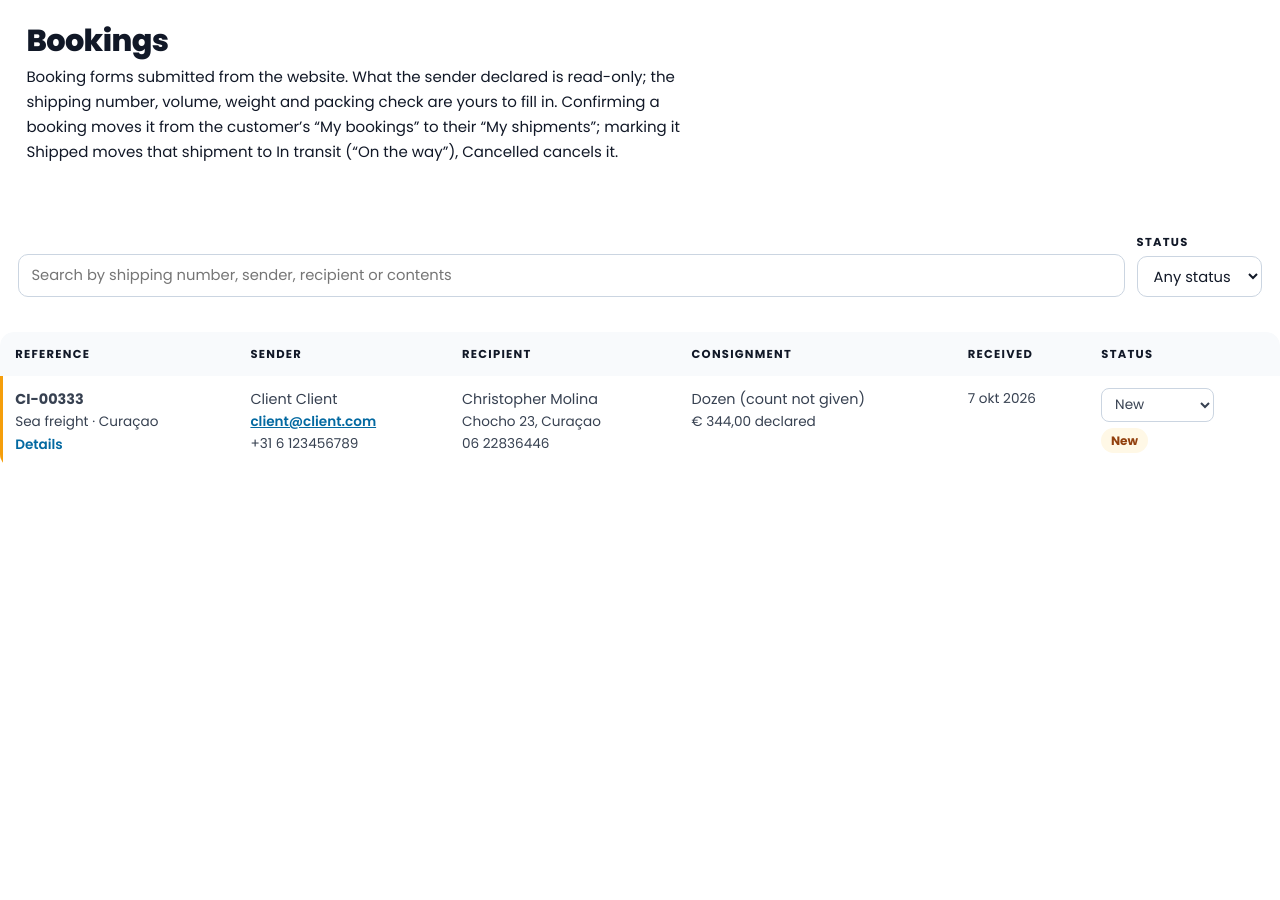
Test case: Bookings › opens a booking in a pop-up, and closes it again
This screenshot has width=1280, height=900.
Click the button "Details" at (39, 444), box [15,434,63,455]
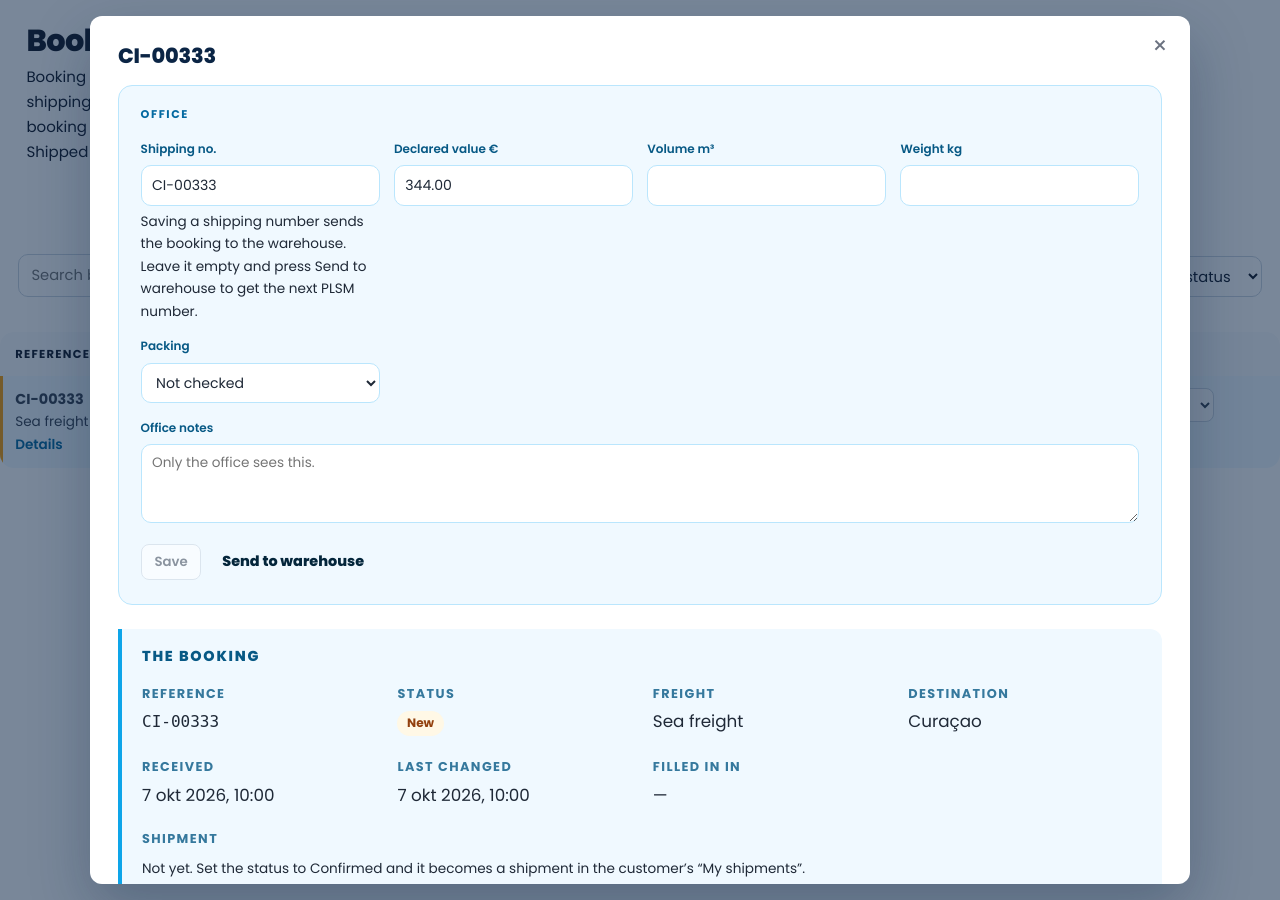
Expected: the text "Office" is shown, [141,106,189,122]
Expected: the text "Shipping no." is shown, [141,140,216,157]
Press Escape
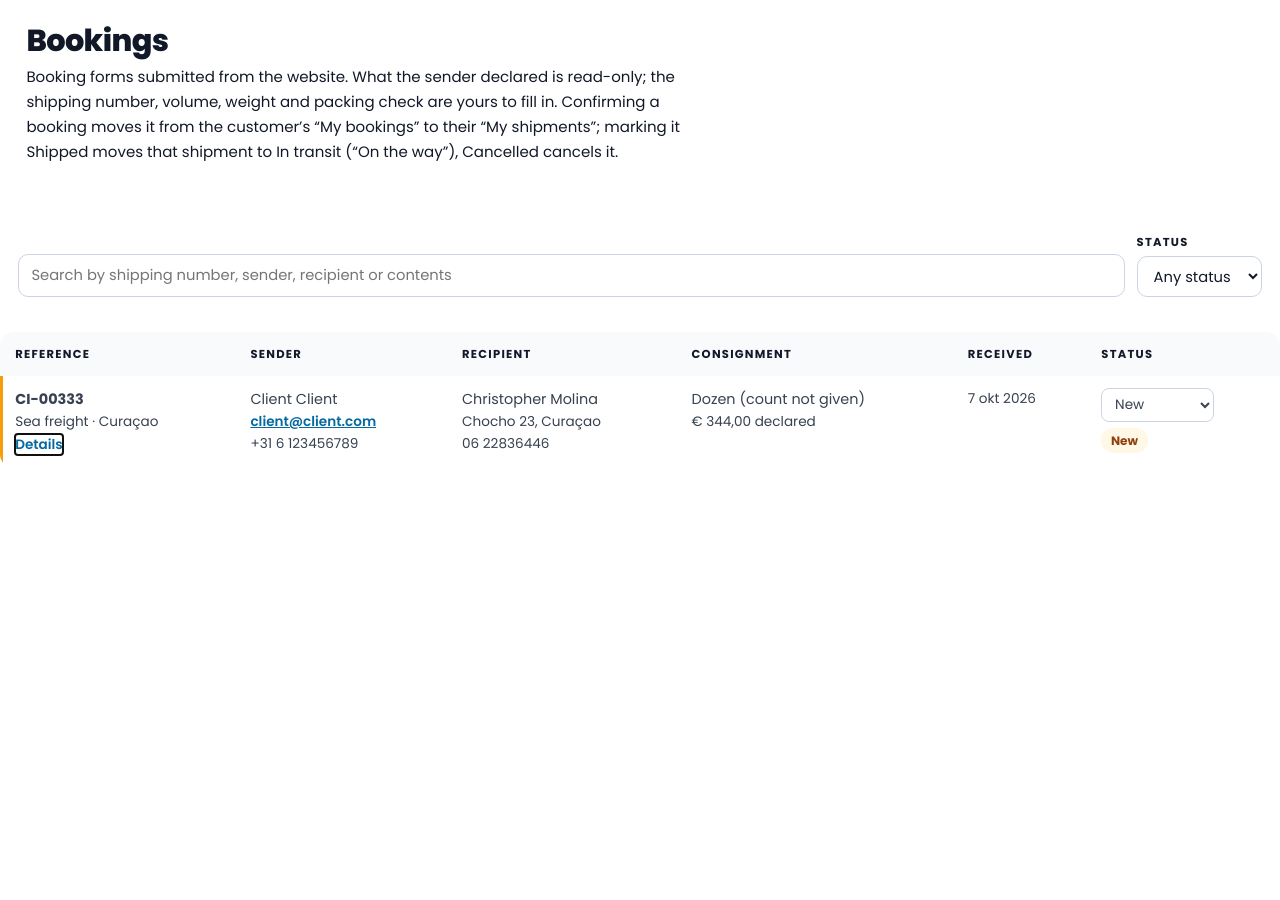
Expected: the dialog is gone
